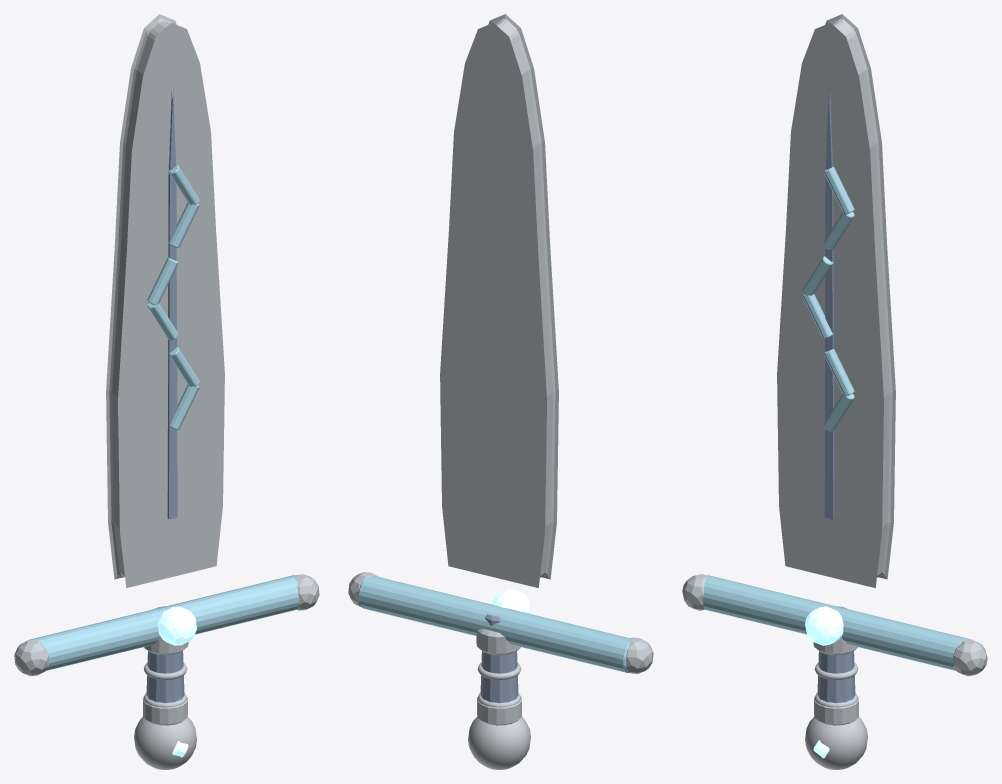
Rendered from warrior-sword-05-stormcrest.glb.
3 views of the same model, side by side, from view 1: azimuth 30°, elevation 25°; view 2: azimuth 150°, elevation 25°; view 3: azimuth 330°, elevation 25° (orthographic).
Parts seen in each view (by area): view 1: warrior-sword-05-stormcrest_ForgedBlade, warrior-sword-05-stormcrest_Crossguard, warrior-sword-05-stormcrest_ColoredFuller, warrior-sword-05-stormcrest_Pommel, warrior-sword-05-stormcrest_LeatherGrip, warrior-sword-05-stormcrest_GuardGem, warrior-sword-05-stormcrest_GuardEnd_-1, warrior-sword-05-stormcrest_LowerFerrule, warrior-sword-05-stormcrest_GuardEnd_1, warrior-sword-05-stormcrest_LightningMarkTail_2, warrior-sword-05-stormcrest_LightningMark_3, warrior-sword-05-stormcrest_LightningMark_1 (+2 smaller); view 2: warrior-sword-05-stormcrest_ForgedBlade, warrior-sword-05-stormcrest_Crossguard, warrior-sword-05-stormcrest_Pommel, warrior-sword-05-stormcrest_LeatherGrip, warrior-sword-05-stormcrest_LowerFerrule, warrior-sword-05-stormcrest_GuardEnd_-1, warrior-sword-05-stormcrest_UpperFerrule, warrior-sword-05-stormcrest_GuardGem; view 3: warrior-sword-05-stormcrest_ForgedBlade, warrior-sword-05-stormcrest_Crossguard, warrior-sword-05-stormcrest_ColoredFuller, warrior-sword-05-stormcrest_Pommel, warrior-sword-05-stormcrest_LeatherGrip, warrior-sword-05-stormcrest_GuardGem, warrior-sword-05-stormcrest_GuardEnd_1, warrior-sword-05-stormcrest_LowerFerrule, warrior-sword-05-stormcrest_GuardEnd_-1, warrior-sword-05-stormcrest_LightningMarkTail_3, warrior-sword-05-stormcrest_LightningMarkTail_1, warrior-sword-05-stormcrest_LightningMark_2 (+1 smaller).
Part boxes in pixels (x1=…): warrior-sword-05-stormcrest_ForgedBlade: x1=106, y1=14, x2=224, y2=587; warrior-sword-05-stormcrest_Crossguard: x1=28, y1=575, x2=299, y2=670; warrior-sword-05-stormcrest_ColoredFuller: x1=167, y1=88, x2=177, y2=519; warrior-sword-05-stormcrest_Pommel: x1=134, y1=716, x2=196, y2=769; warrior-sword-05-stormcrest_LeatherGrip: x1=146, y1=606, x2=184, y2=703; warrior-sword-05-stormcrest_GuardGem: x1=158, y1=606, x2=196, y2=645; warrior-sword-05-stormcrest_GuardEnd_-1: x1=14, y1=639, x2=48, y2=676; warrior-sword-05-stormcrest_LowerFerrule: x1=143, y1=696, x2=187, y2=725; warrior-sword-05-stormcrest_GuardEnd_1: x1=295, y1=574, x2=319, y2=610; warrior-sword-05-stormcrest_LightningMarkTail_2: x1=147, y1=257, x2=178, y2=305; warrior-sword-05-stormcrest_LightningMark_3: x1=168, y1=203, x2=199, y2=247; warrior-sword-05-stormcrest_LightningMark_1: x1=169, y1=385, x2=199, y2=429; warrior-sword-05-stormcrest_ForgedBlade: x1=440, y1=14, x2=558, y2=587; warrior-sword-05-stormcrest_Crossguard: x1=358, y1=576, x2=630, y2=672; warrior-sword-05-stormcrest_Pommel: x1=468, y1=717, x2=530, y2=769; warrior-sword-05-stormcrest_LeatherGrip: x1=480, y1=614, x2=518, y2=703; warrior-sword-05-stormcrest_LowerFerrule: x1=477, y1=696, x2=521, y2=725; warrior-sword-05-stormcrest_GuardEnd_-1: x1=626, y1=637, x2=653, y2=673; warrior-sword-05-stormcrest_UpperFerrule: x1=476, y1=628, x2=520, y2=655; warrior-sword-05-stormcrest_GuardGem: x1=492, y1=589, x2=530, y2=613; warrior-sword-05-stormcrest_ForgedBlade: x1=777, y1=14, x2=895, y2=587; warrior-sword-05-stormcrest_Crossguard: x1=702, y1=575, x2=974, y2=670; warrior-sword-05-stormcrest_ColoredFuller: x1=824, y1=88, x2=834, y2=519; warrior-sword-05-stormcrest_Pommel: x1=805, y1=716, x2=867, y2=769; warrior-sword-05-stormcrest_LeatherGrip: x1=817, y1=606, x2=855, y2=703; warrior-sword-05-stormcrest_GuardGem: x1=805, y1=606, x2=843, y2=645; warrior-sword-05-stormcrest_GuardEnd_1: x1=953, y1=639, x2=987, y2=676; warrior-sword-05-stormcrest_LowerFerrule: x1=814, y1=696, x2=858, y2=725; warrior-sword-05-stormcrest_GuardEnd_-1: x1=682, y1=574, x2=707, y2=610; warrior-sword-05-stormcrest_LightningMarkTail_3: x1=823, y1=166, x2=854, y2=214; warrior-sword-05-stormcrest_LightningMarkTail_1: x1=823, y1=349, x2=854, y2=396; warrior-sword-05-stormcrest_LightningMark_2: x1=802, y1=294, x2=833, y2=338.
Size of the model in its own units: 0.7015 by 1.67 by 0.15.
